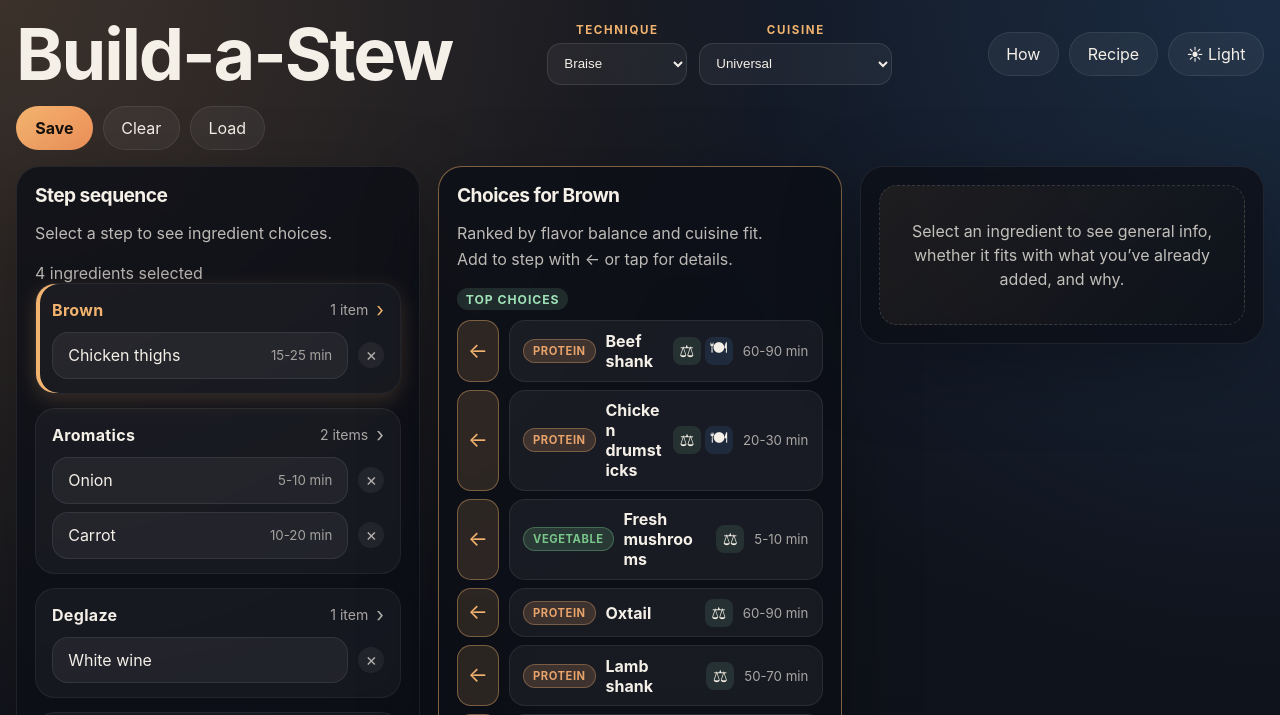
App shell — header controls and popups › opens and closes the How popup
Check: the heading "how it works" is not shown
Click the button "How" at (1023, 54), box [988, 32, 1059, 76]
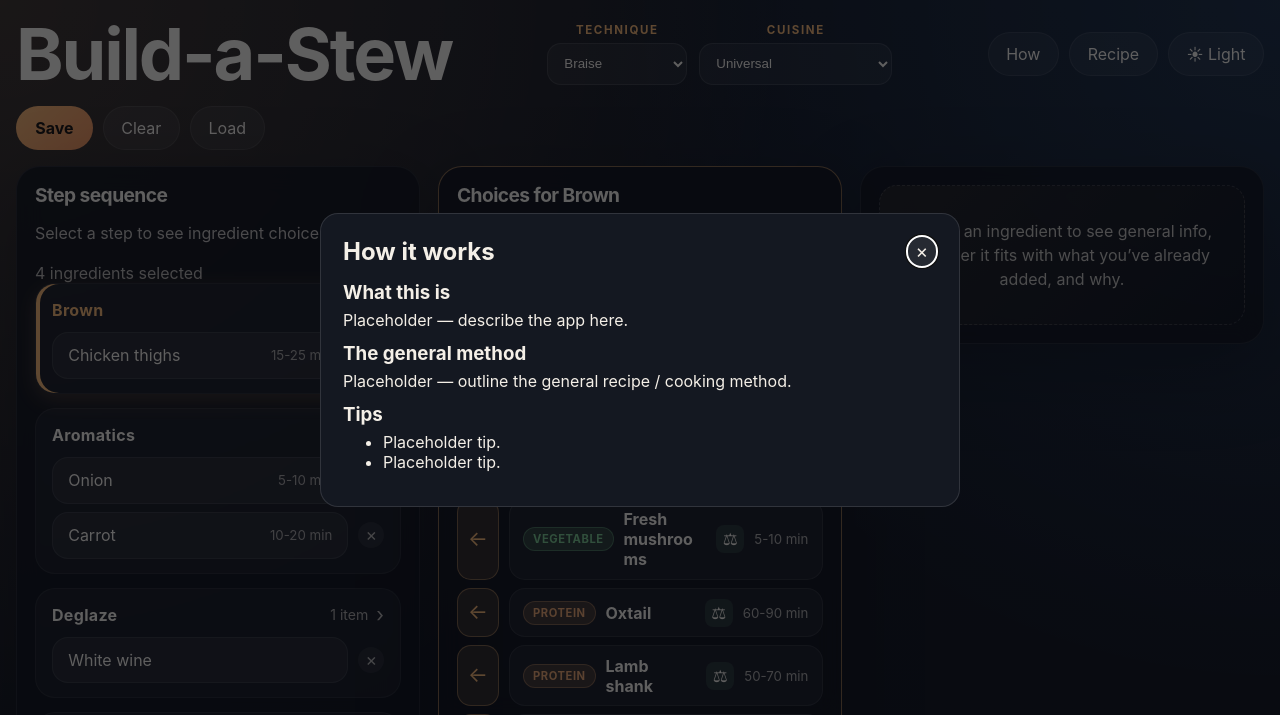
Check: the heading "How it works" is shown, box [343, 237, 495, 266]
Click the button named "close" at (922, 252), box [907, 236, 937, 267]
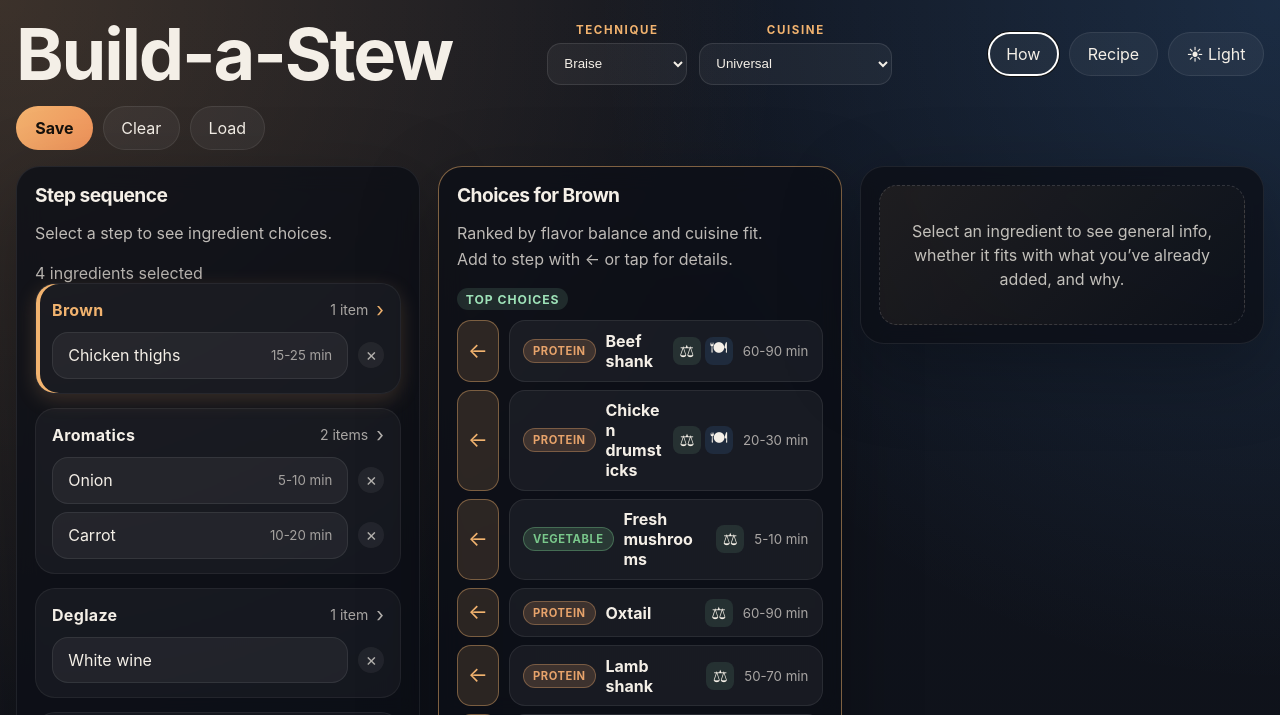
Check: the heading "How it works" is gone
